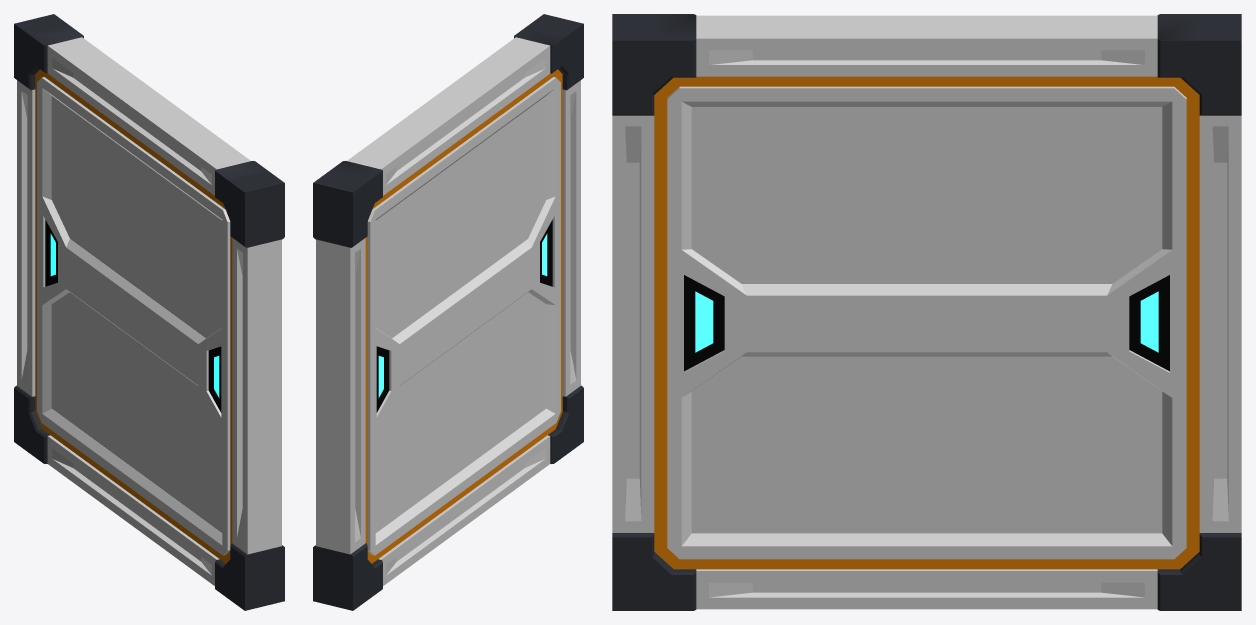
File: SM_Wall_V2.glb
The picture shows the model from 3 angles, left to right: view 1: azimuth 30°, elevation 25°; view 2: azimuth 150°, elevation 25°; view 3: azimuth 270°, elevation 25°; orthographic projection. The views are drawn at different scales.
Parts seen in each view (by area): view 1: SM_Wall_Cadre.005; view 2: SM_Wall_Cadre.005; view 3: SM_Wall_Cadre.005.
Boxes of the visible parts, <box> form: SM_Wall_Cadre.005: <box>14,14,284,610</box>; SM_Wall_Cadre.005: <box>313,14,583,610</box>; SM_Wall_Cadre.005: <box>612,14,1241,610</box>.
Size of the model in its own units: 0.4 by 4 by 4.
